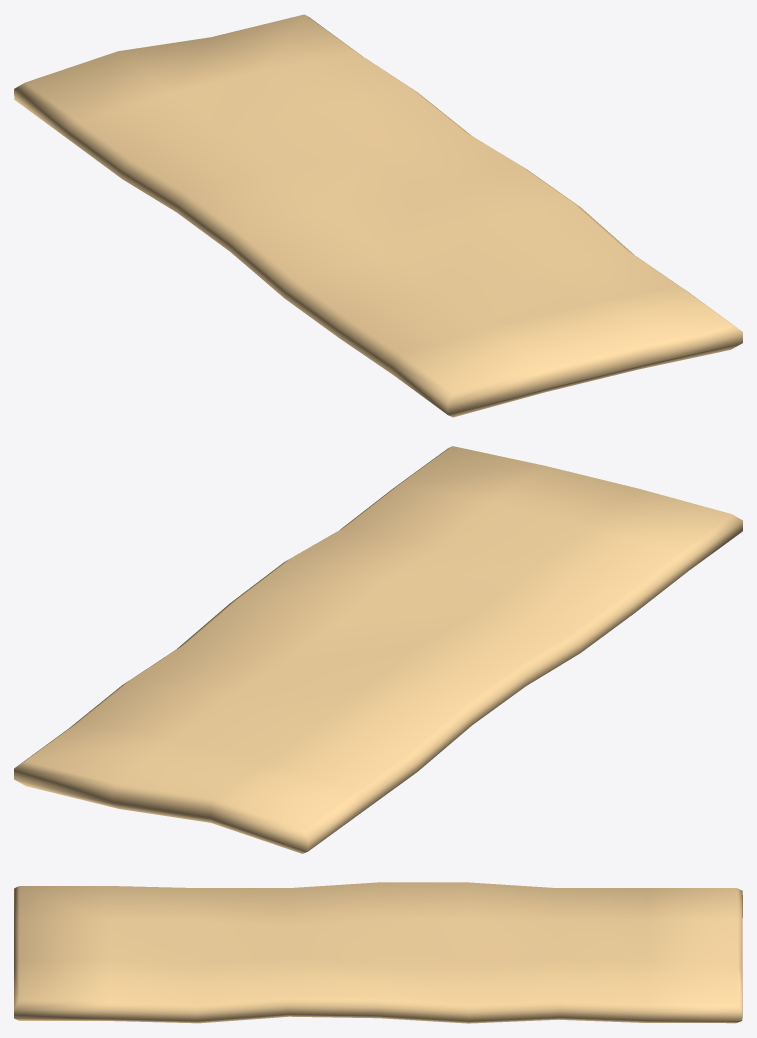
Rendered from Bed_01.fbx.
3 renders of one model, top to bottom at view 1: azimuth 30°, elevation 25°; view 2: azimuth 150°, elevation 25°; view 3: azimuth 270°, elevation 25°, orthographic. The views are drawn at different scales.
Visible parts, largest first — view 1: Bed_01; view 2: Bed_01; view 3: Bed_01.
Boxes of the visible parts, x1,y1,x2,y2 form: Bed_01: [14, 14, 742, 417]; Bed_01: [14, 446, 742, 853]; Bed_01: [14, 882, 742, 1023].
Size of the model in its own units: 81.45 by 8.79 by 206.
